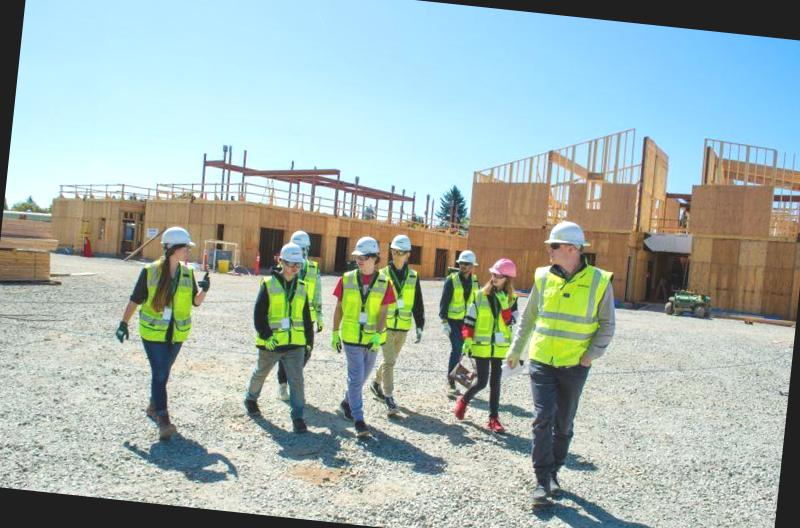helmet: (542, 217, 596, 258), (150, 225, 199, 256), (272, 238, 308, 274), (346, 234, 384, 262), (486, 256, 525, 283), (390, 229, 416, 255), (456, 248, 482, 269)
person: (506, 210, 635, 486), (110, 220, 212, 446), (320, 228, 408, 444), (238, 235, 320, 436), (363, 230, 442, 431), (453, 250, 533, 445), (433, 242, 498, 388)
